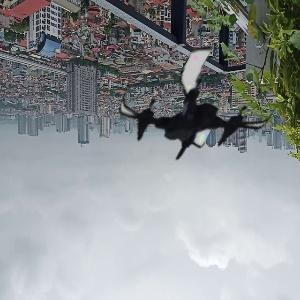drone: (123, 39, 267, 183)
